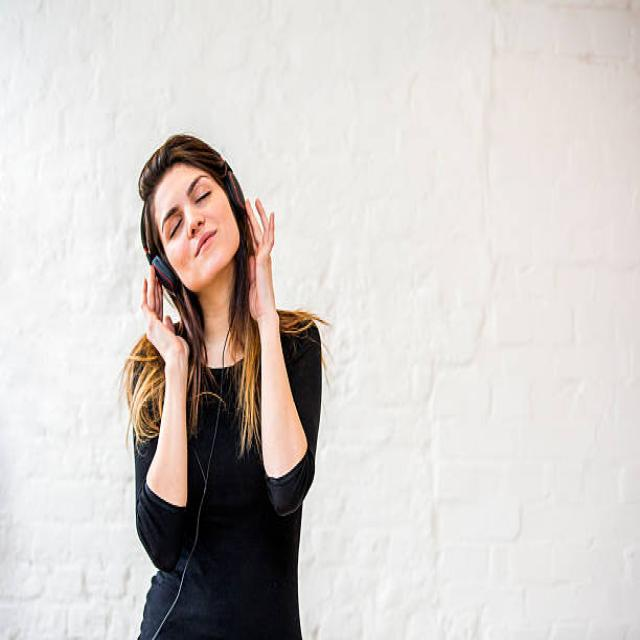Headphone: (139, 139, 248, 295)
